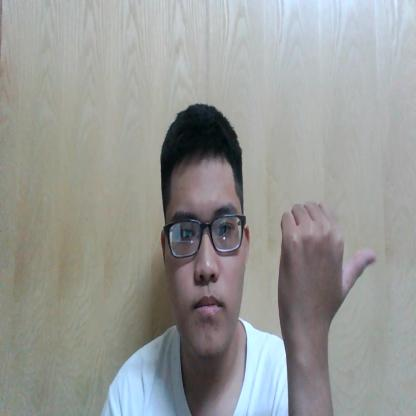left: (274, 197, 378, 322)
